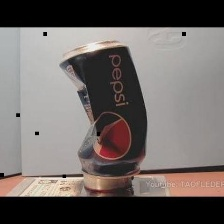can: (54, 36, 155, 179)
